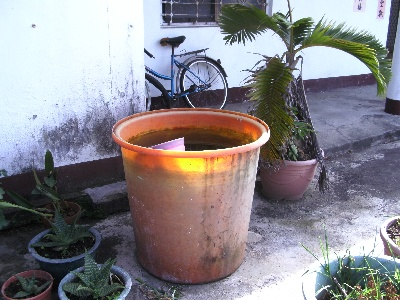bucket: (112, 108, 271, 284)
